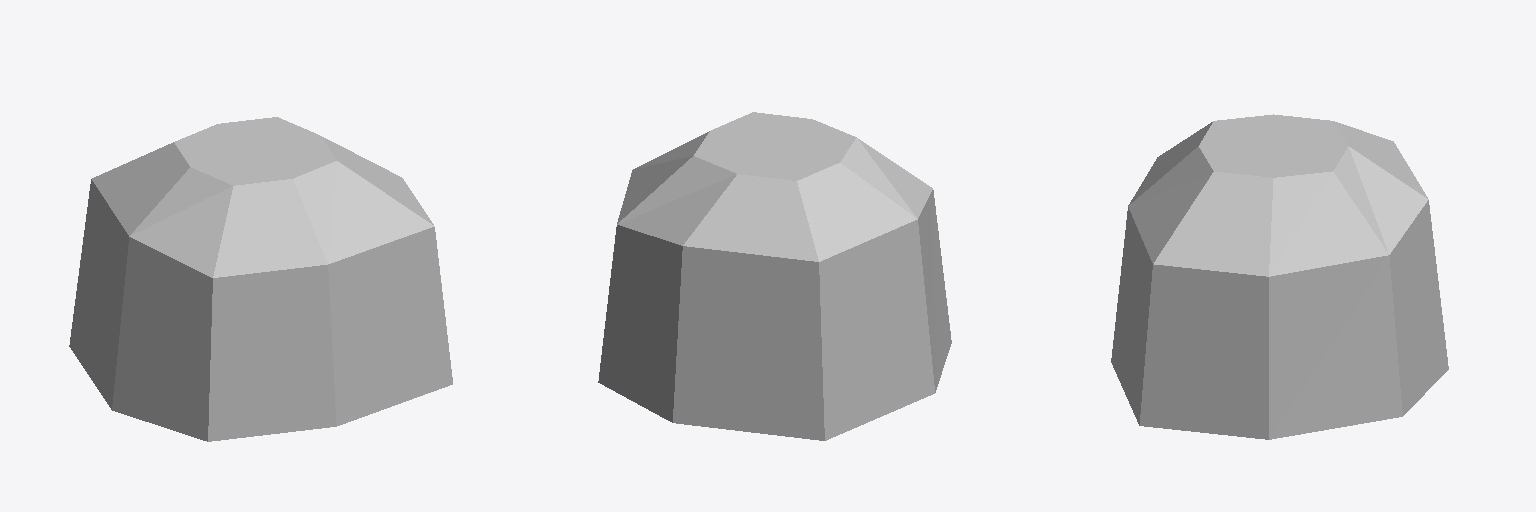
File: rock_structures_1.obj
3 views of the same model, side by side, from view 1: azimuth 30°, elevation 25°; view 2: azimuth 150°, elevation 25°; view 3: azimuth 270°, elevation 25° (orthographic).
Parts seen in each view (by area): view 1: Plane.004; view 2: Plane.004; view 3: Plane.004.
Part boxes in pixels (x1,y1,x2,y2): Plane.004: (69, 117, 452, 441); Plane.004: (598, 112, 951, 440); Plane.004: (1111, 114, 1448, 439).
Bounding box in the file's own units: 4.14 × 2.75 × 3.89.